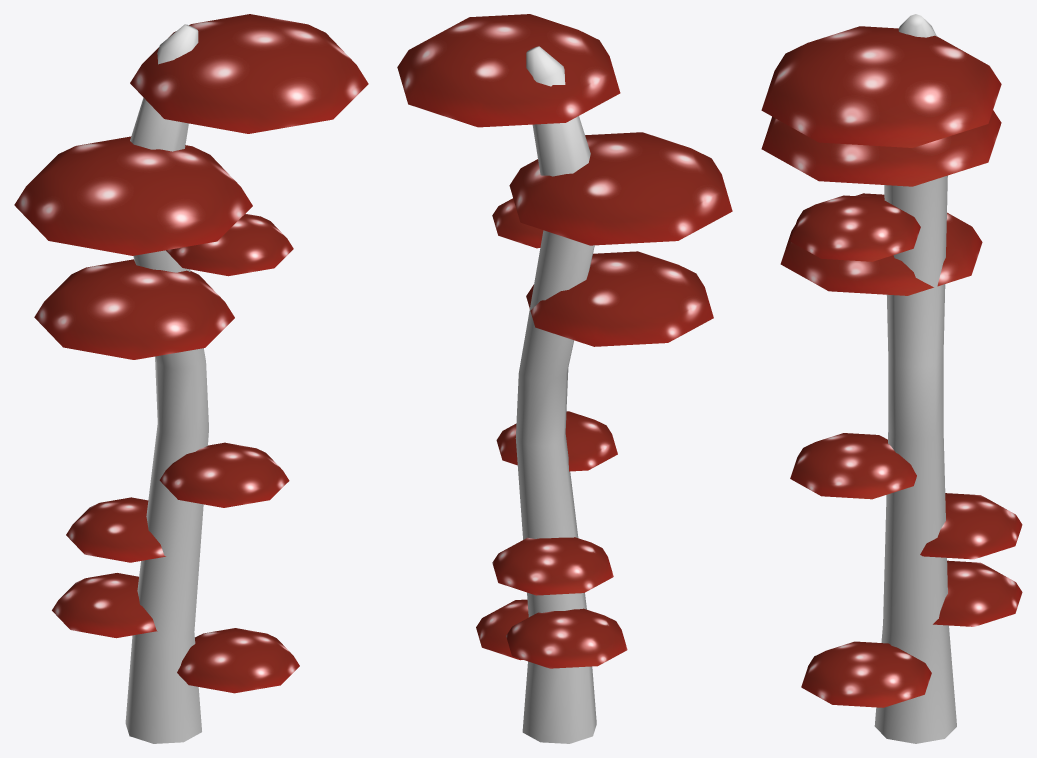
Rendered from MushroomTree2.fbx.
The picture shows the model from 3 angles, left to right: view 1: azimuth 30°, elevation 25°; view 2: azimuth 150°, elevation 25°; view 3: azimuth 270°, elevation 25°; orthographic projection. The views are drawn at different scales.
Parts seen in each view (by area): view 1: Circle.009; view 2: Circle.009; view 3: Circle.009.
Boxes of the visible parts, box(x1,y1,x2,y2) form: Circle.009: box(14, 14, 368, 743); Circle.009: box(397, 14, 732, 743); Circle.009: box(761, 14, 1022, 743).
Size of the model in its own units: 1757 by 3703 by 1211.
